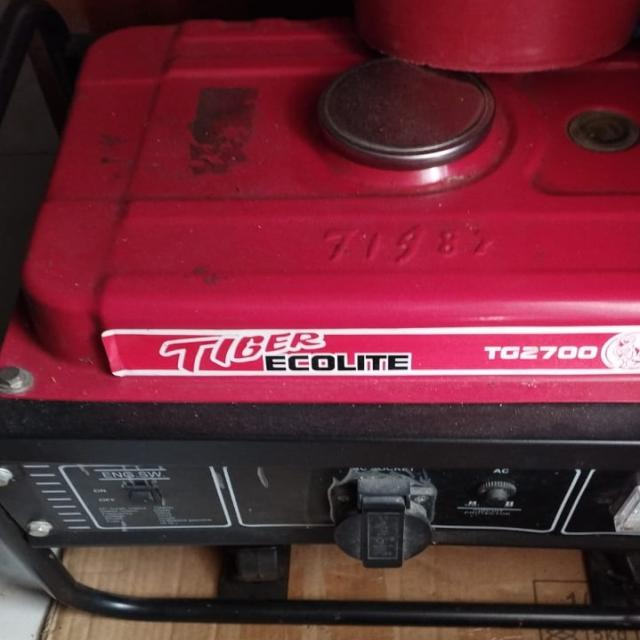Anorganik: (0, 17, 640, 627)
